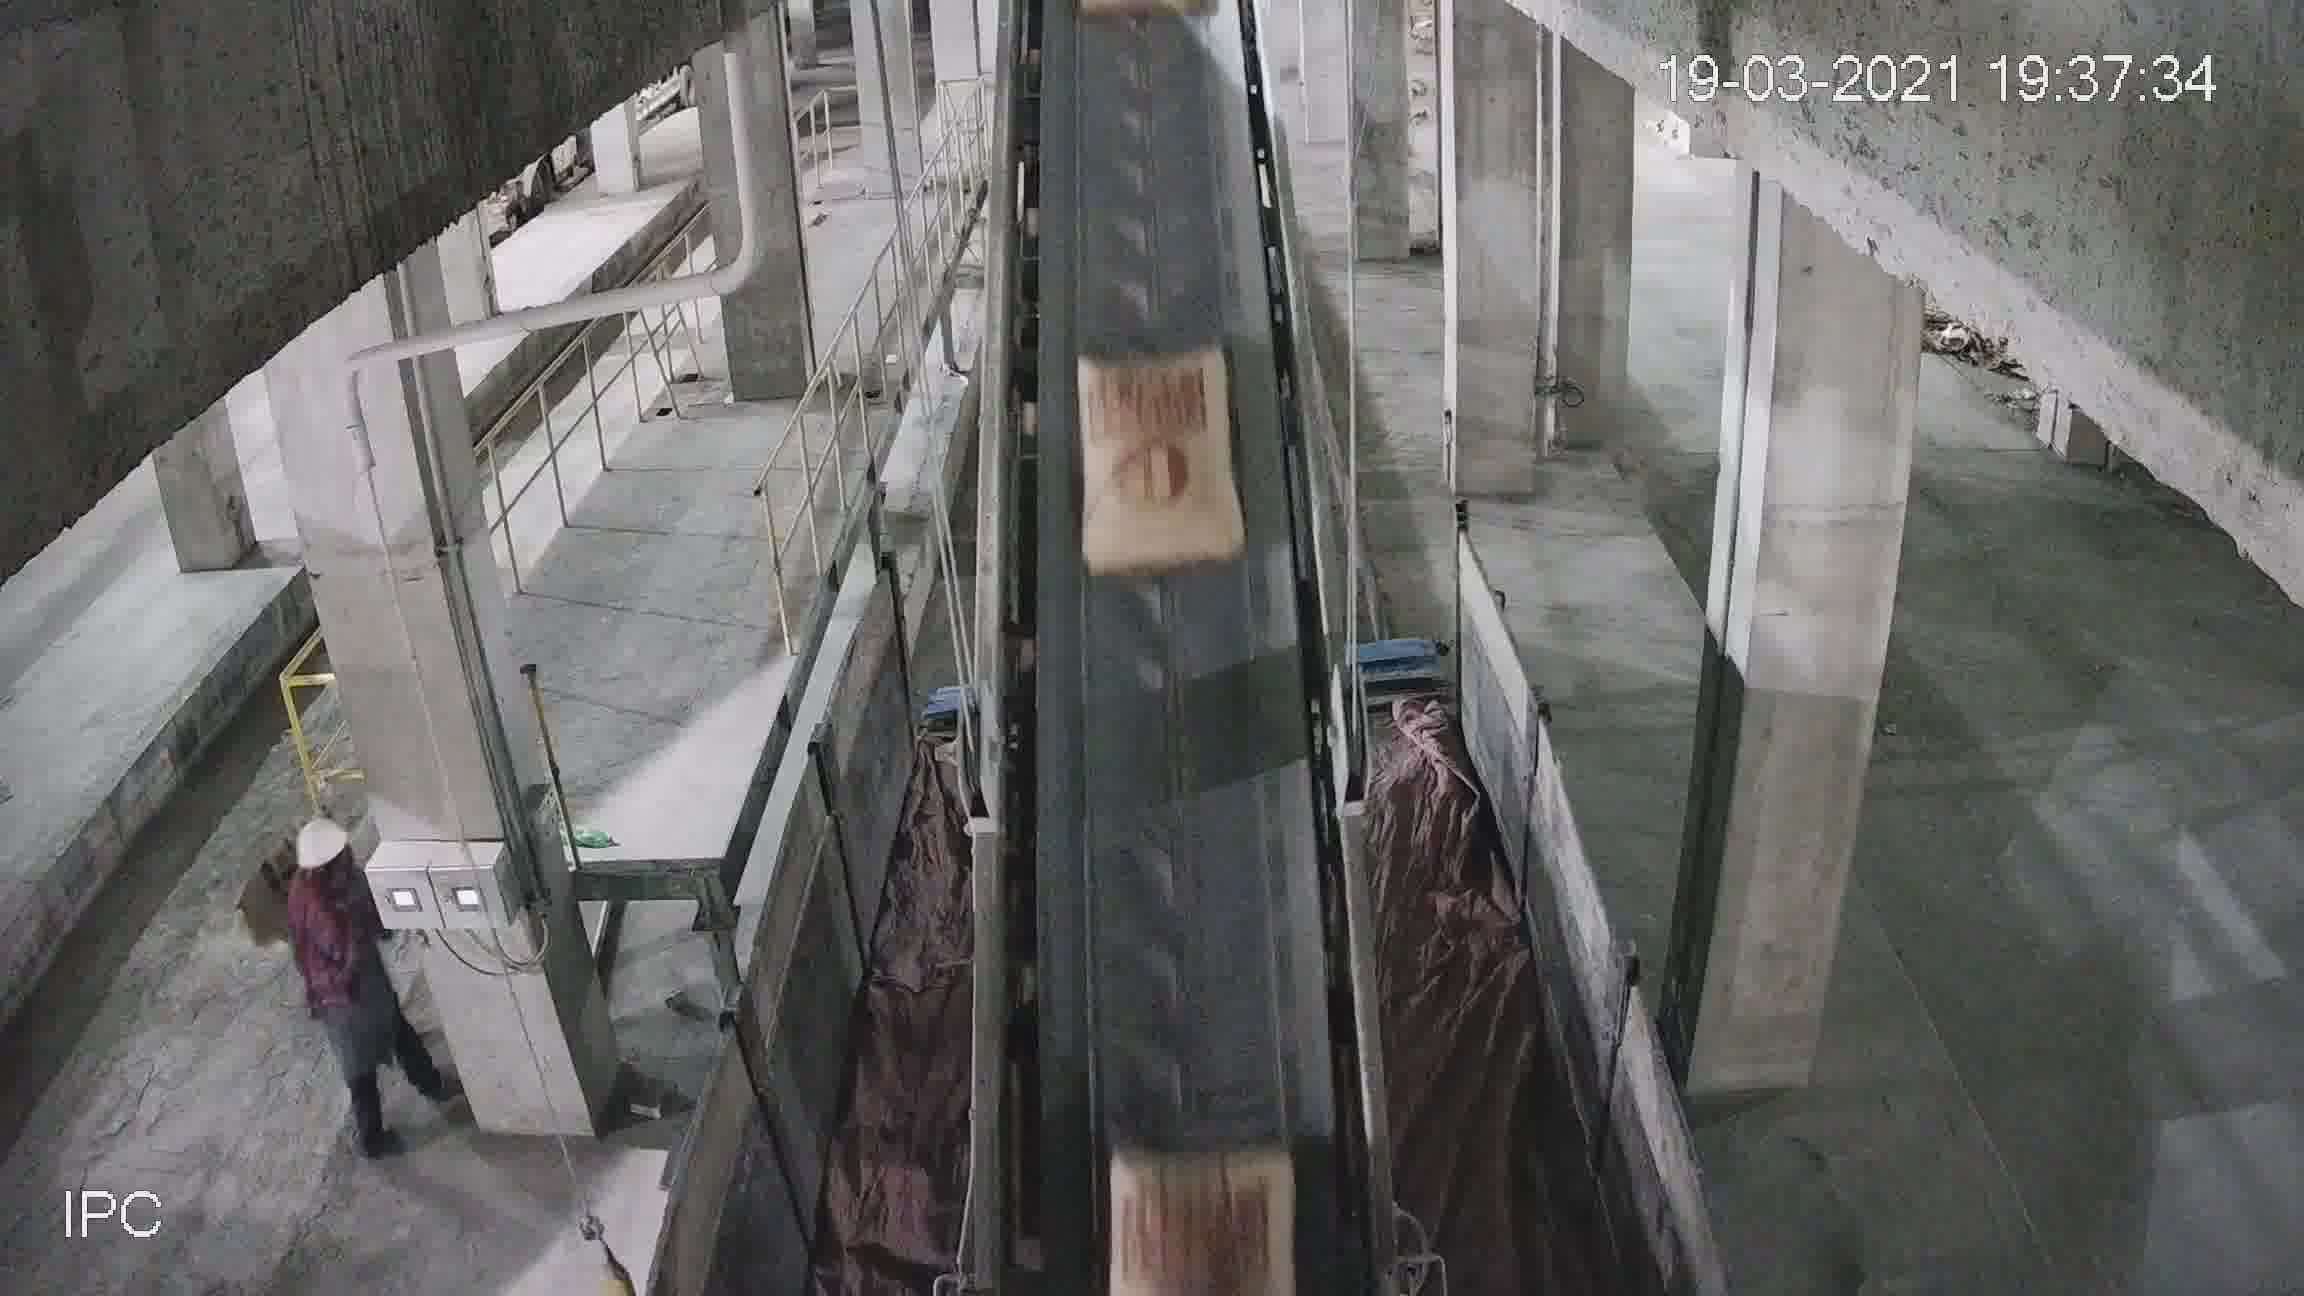bag: (1079, 348, 1237, 573), (1111, 1147, 1294, 1203)
belt: (986, 9, 1359, 1161)
